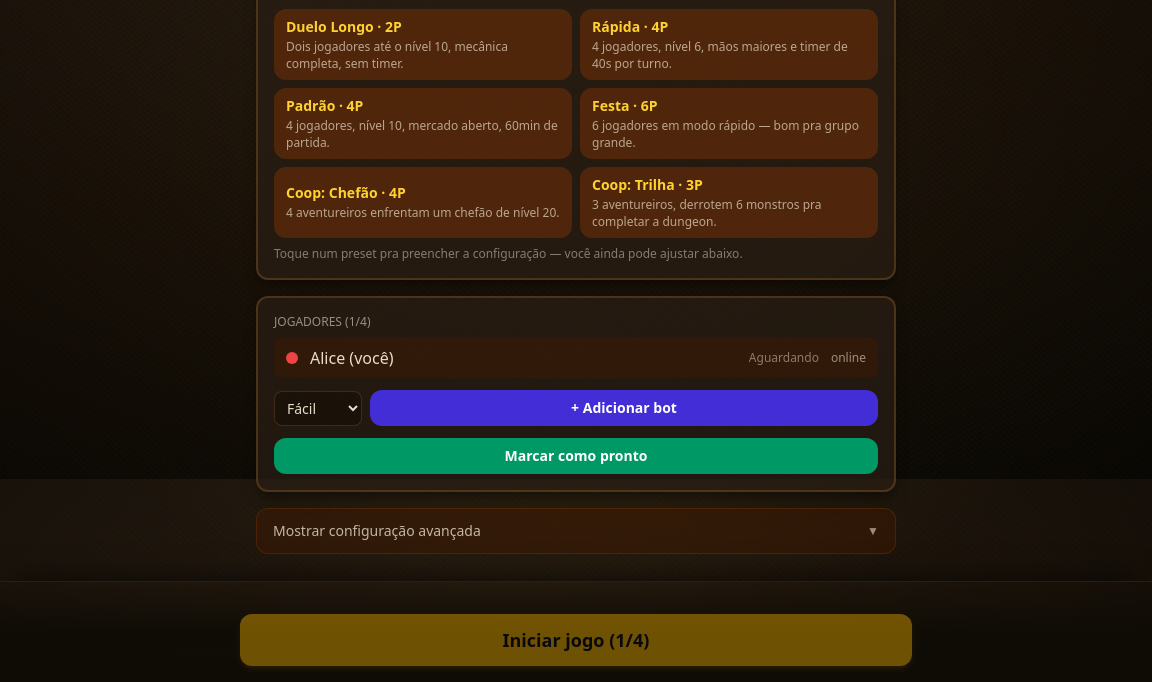
it: Lobby › configures cooperative-only fields when variant is cooperative
(page scrolled)
What coordinates should you click on to do the following:
click the text "Mostrar configuração avançada"
I would click on:
 (377, 531)
Its box is left=273, top=521, right=481, bottom=541.
(page scrolled)
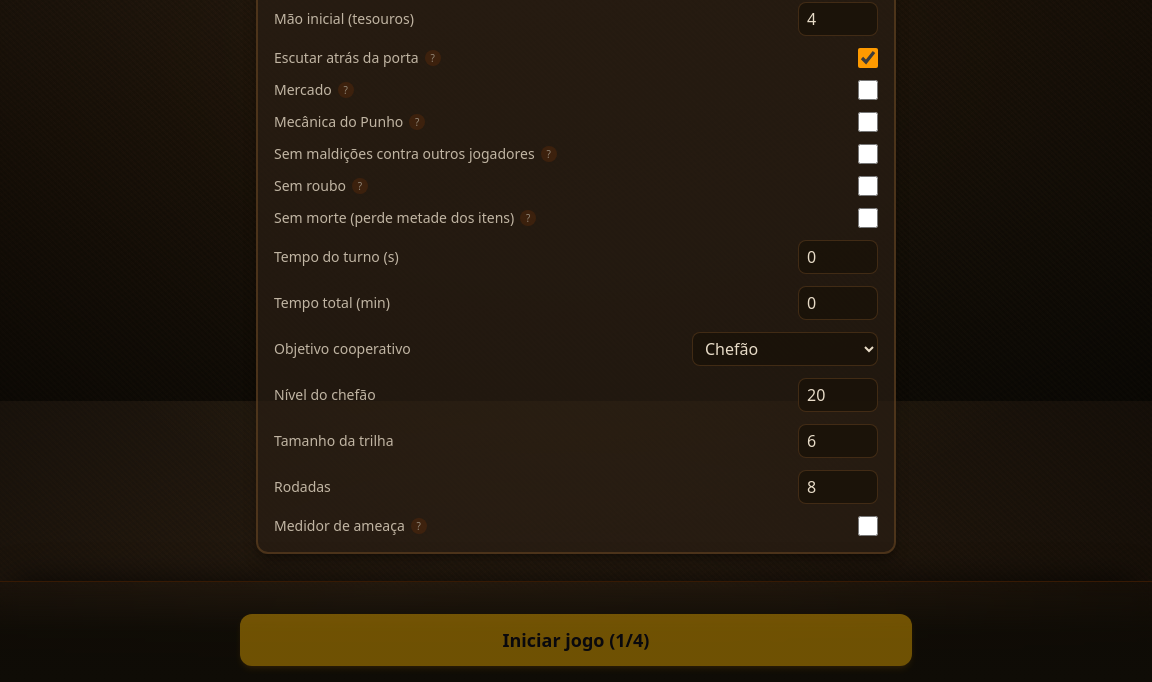
Check: the text "Objetivo cooperativo" is shown, box left=274, top=339, right=411, bottom=359
Check: the text "Nível do chefão" is shown, box left=274, top=385, right=376, bottom=405
